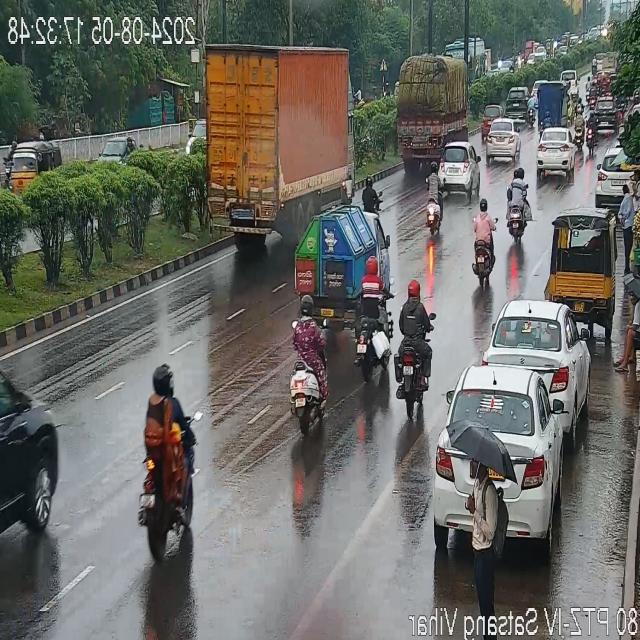2-wheelers: (139, 360, 197, 554), (392, 280, 440, 418), (285, 299, 331, 431), (350, 290, 388, 380), (472, 192, 498, 292), (503, 170, 533, 242), (426, 164, 446, 238), (586, 108, 600, 158), (574, 106, 586, 149)
auto: (542, 210, 618, 314), (6, 137, 64, 193), (534, 82, 566, 130), (504, 86, 530, 120), (478, 103, 502, 126)
car: (438, 368, 574, 506), (0, 348, 64, 555), (486, 298, 586, 410), (532, 127, 577, 176), (444, 140, 482, 193), (485, 118, 523, 163)
pedestrian: (460, 454, 502, 610), (616, 286, 640, 372), (616, 182, 640, 266)
truck: (203, 32, 359, 240), (293, 194, 391, 327), (398, 44, 468, 180)
